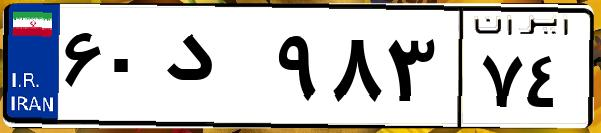0: (110, 28, 158, 98)
3: (385, 28, 445, 110)
4: (525, 38, 570, 115)
6: (57, 26, 110, 100)
7: (475, 38, 525, 113)
8: (330, 28, 385, 110)
9: (270, 28, 330, 110)
د: (158, 20, 270, 120)
